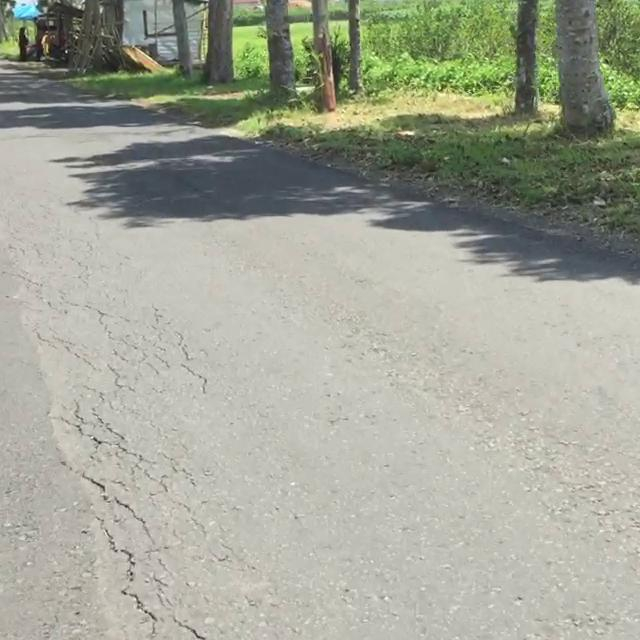retak_kulit_buaya: (0, 231, 244, 640)
